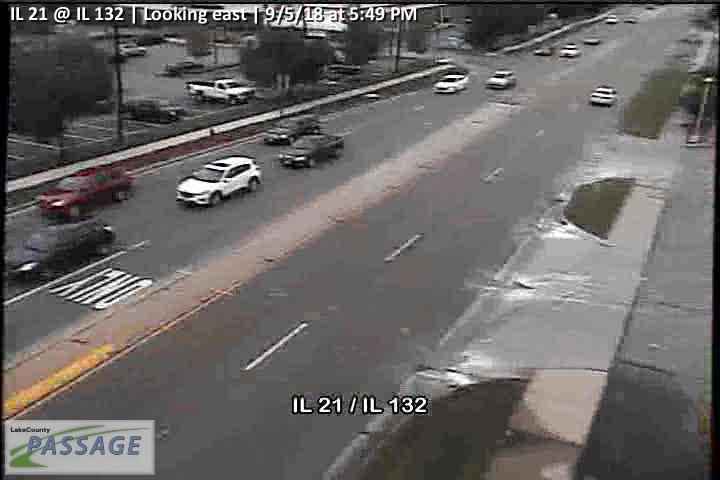SUV: (4, 214, 115, 281), (36, 166, 135, 218), (176, 156, 263, 208)
Sedan: (279, 132, 346, 168), (262, 114, 321, 145), (125, 97, 185, 124), (432, 73, 469, 94), (589, 85, 619, 106), (485, 70, 516, 89)
Truck: (185, 78, 256, 104)
